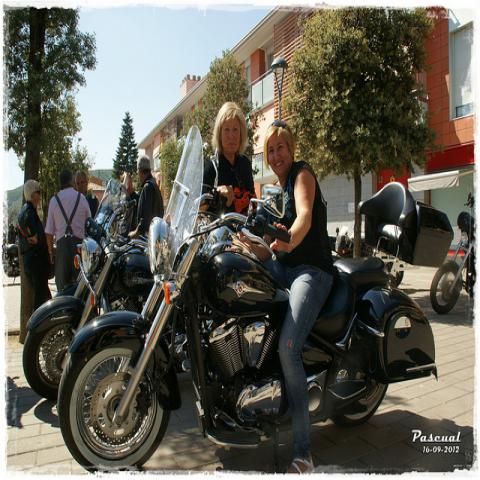motorcycle: (57, 125, 454, 475), (20, 174, 191, 399), (431, 210, 476, 315)
